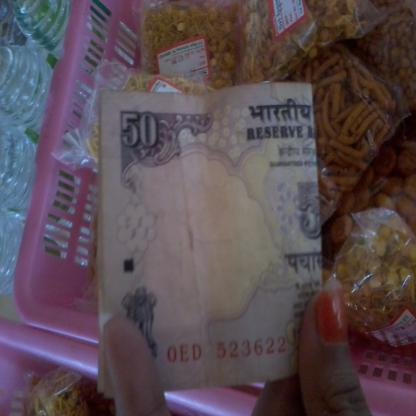Old50Front: (96, 81, 323, 398)
